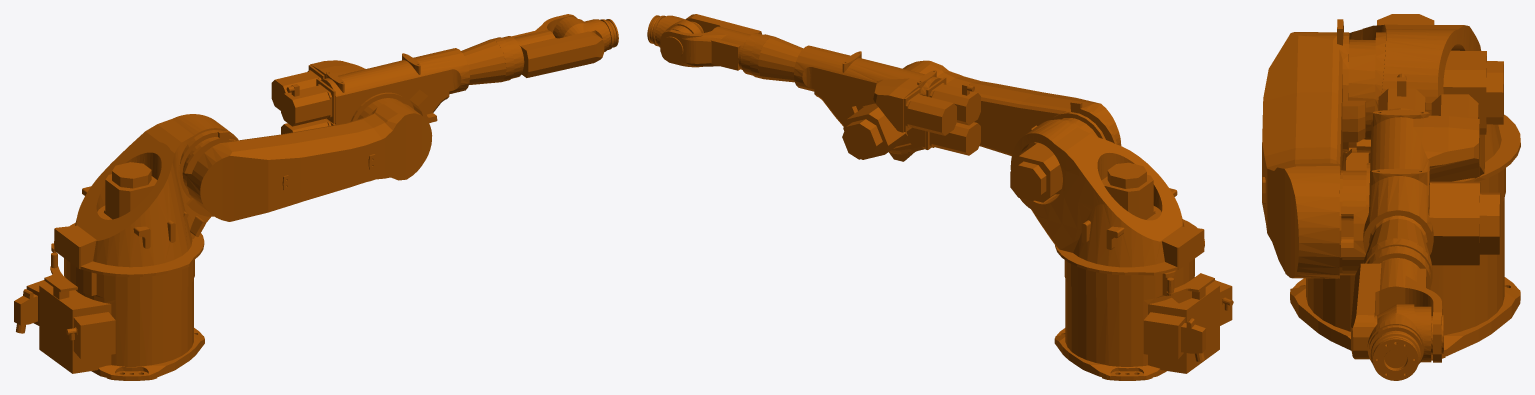
The model's file is kuka_kr60.dae.
3 renders of one model, left to right at view 1: azimuth 30°, elevation 25°; view 2: azimuth 150°, elevation 25°; view 3: azimuth 270°, elevation 25°, orthographic. The views are drawn at different scales.
Parts seen in each view (by area): view 1: link_2, base_link, link_1, link_3, link_4, link_5; view 2: link_1, base_link, link_3, link_2, link_4, link_5; view 3: link_3, link_2, link_1, base_link, link_4, link_5, link_6.
Boxes of the visible parts, x1,y1,x2,y2 form: link_2: [183, 102, 432, 221]; base_link: [14, 252, 204, 380]; link_1: [51, 114, 238, 277]; link_3: [271, 39, 506, 134]; link_4: [490, 14, 604, 82]; link_5: [553, 16, 610, 51]; link_1: [1010, 118, 1204, 277]; base_link: [1054, 258, 1233, 380]; link_3: [758, 36, 980, 161]; link_2: [903, 60, 1121, 156]; link_4: [660, 14, 774, 79]; link_5: [655, 15, 703, 47]; link_3: [1341, 73, 1500, 275]; link_2: [1262, 19, 1365, 278]; link_1: [1342, 14, 1520, 181]; base_link: [1290, 168, 1520, 360]; link_4: [1351, 238, 1443, 362]; link_5: [1367, 304, 1431, 363]; link_6: [1370, 331, 1420, 380].
Bounding box in the file's own units: 2.85 × 0.6975 × 1.07.
